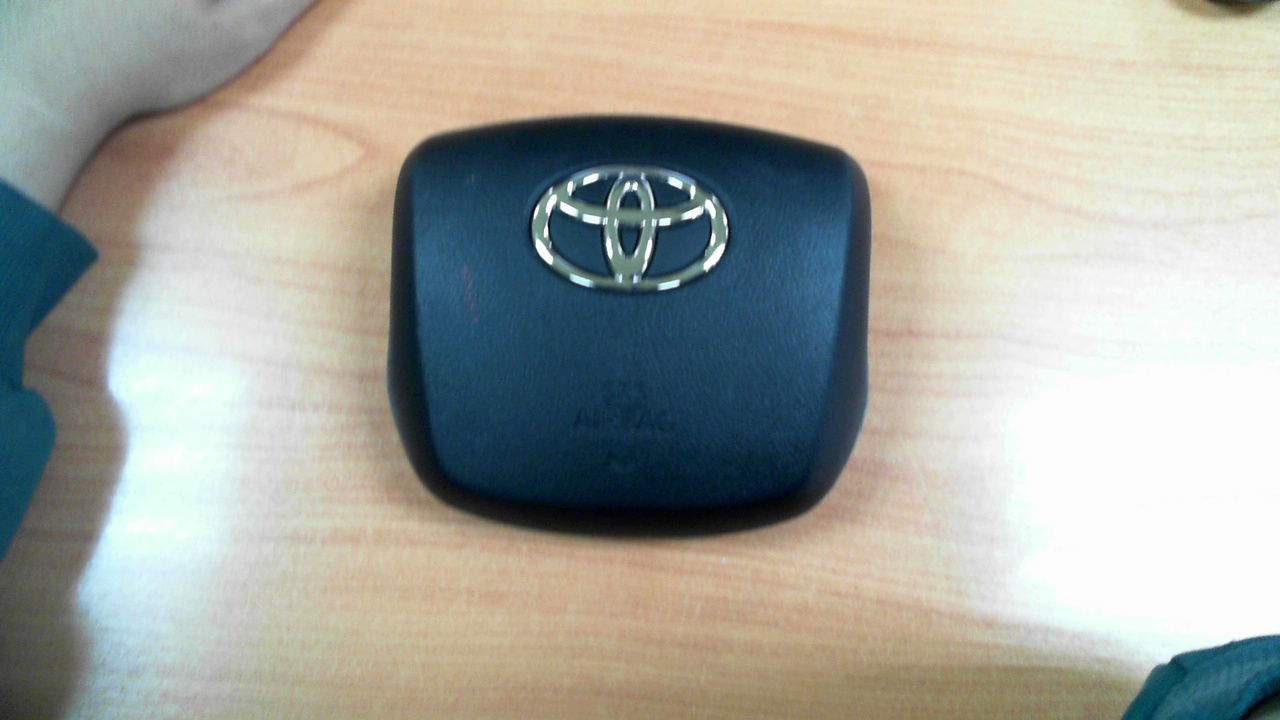Airbag: (386, 115, 873, 542)
Toyota: (531, 164, 729, 292)
